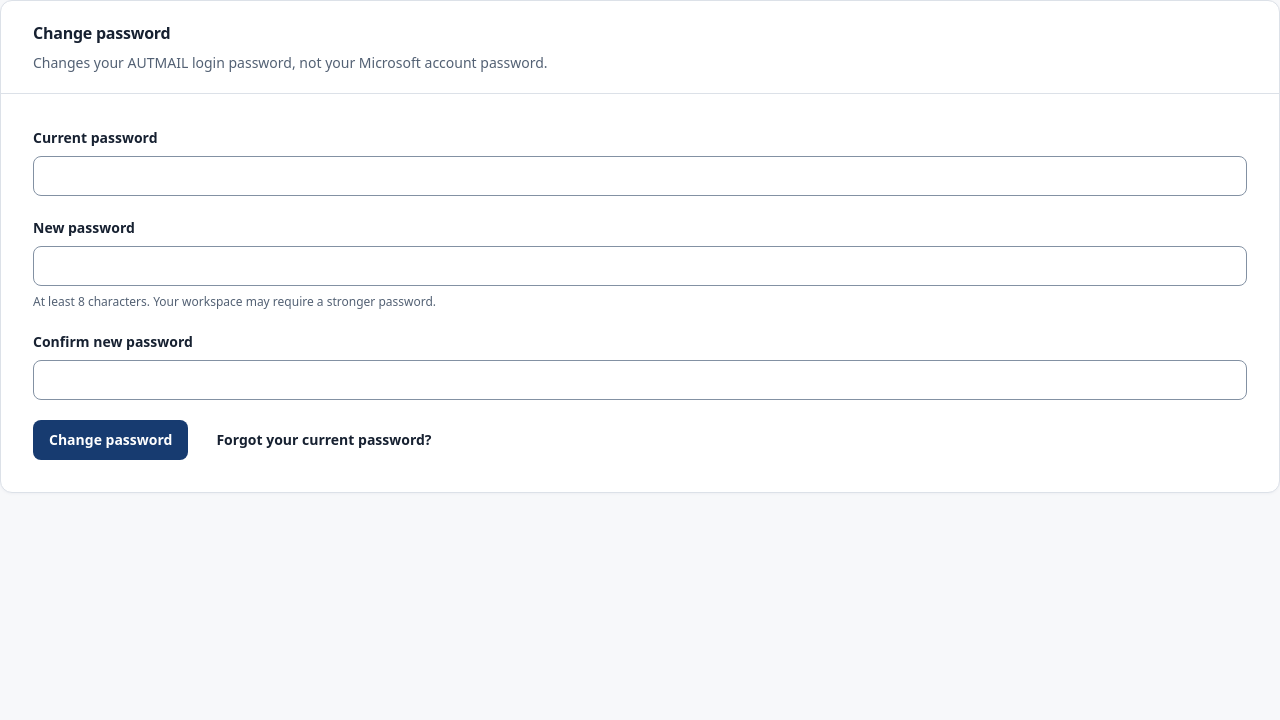
it: account password change › rejects mismatched passwords before contacting authentication
In the password field labelled "Current password": (640, 176) top-left (33, 156), bottom-right (1247, 196), type "old-password"
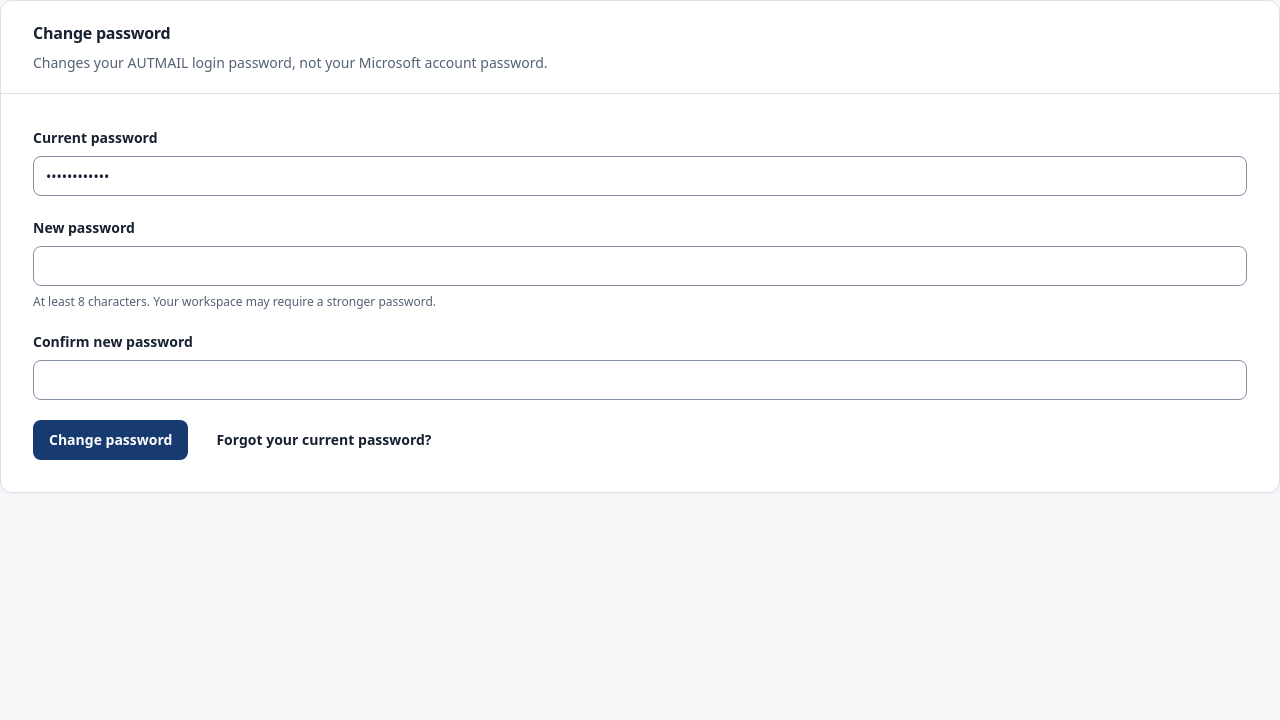
In the password field labelled "New password": (640, 266) top-left (33, 246), bottom-right (1247, 286), type "new-password"
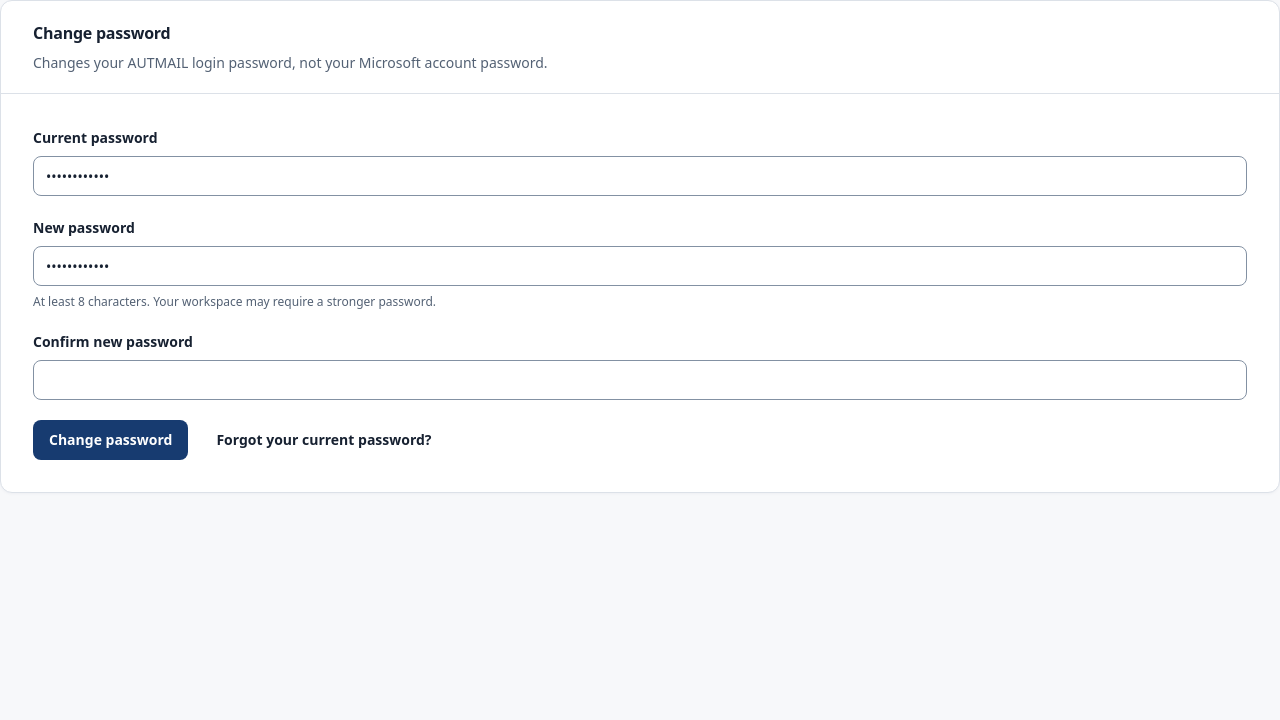
In the password field labelled "Confirm new password": (640, 380) top-left (33, 360), bottom-right (1247, 400), type "different-password"
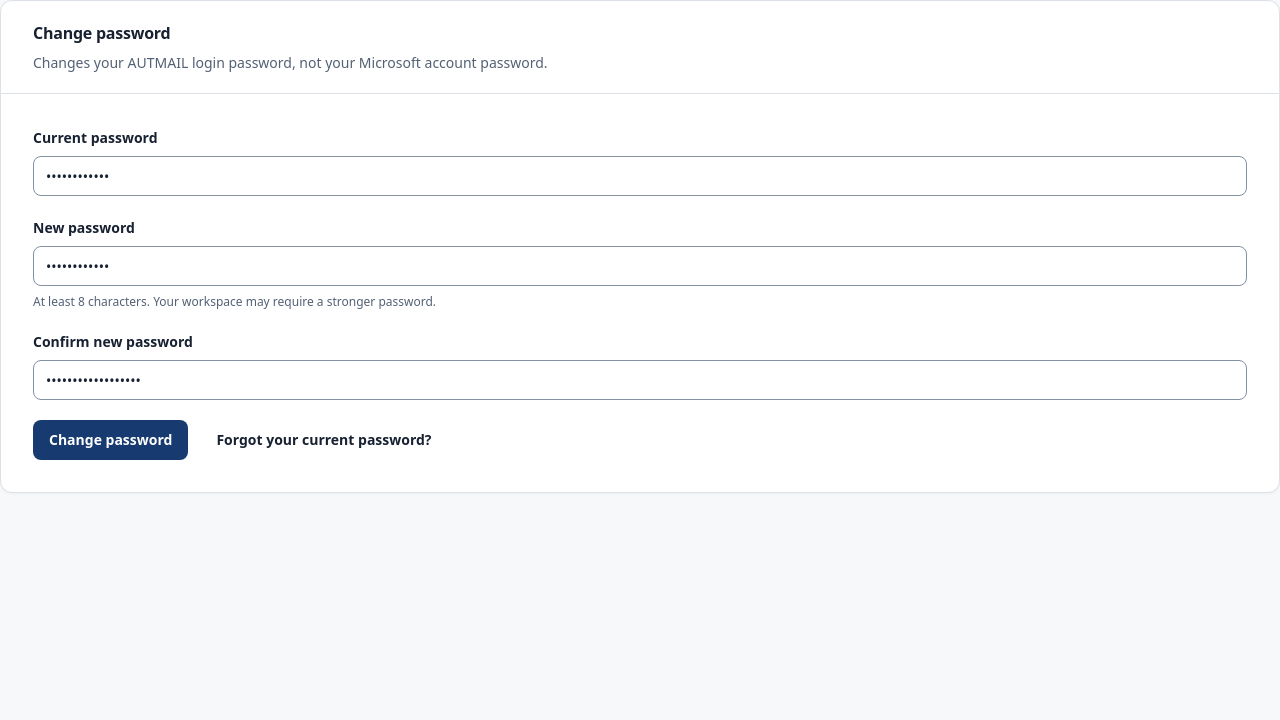
Click the button "Change password": (111, 440) top-left (33, 420), bottom-right (188, 460)
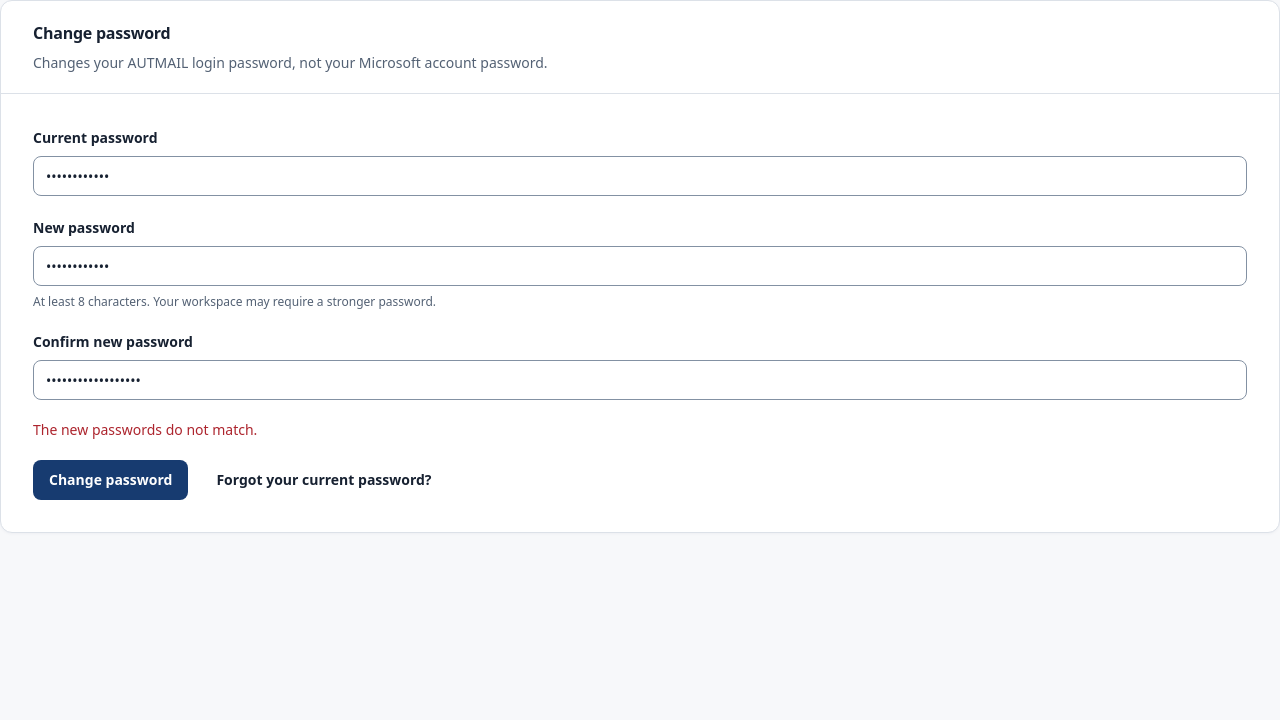
Now the message shows "do not match", box top-left (33, 420), bottom-right (257, 439)
